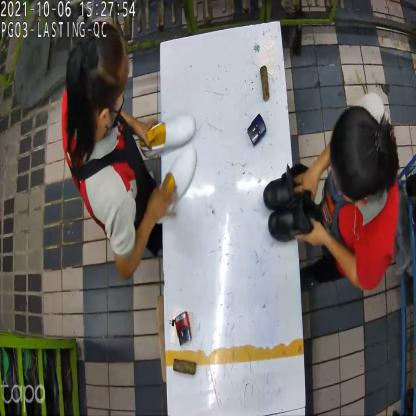shoes: (135, 115, 197, 223), (262, 162, 324, 242)
stamp: (173, 312, 195, 344), (248, 112, 266, 147)
